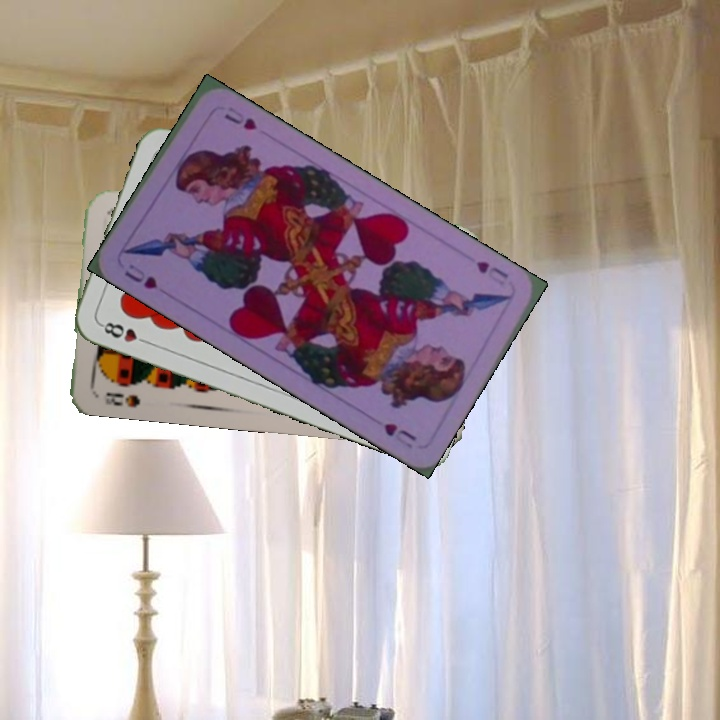H8: (96, 318, 153, 347)
HU: (120, 260, 161, 292), (472, 256, 511, 288)
S8: (101, 388, 143, 410)
